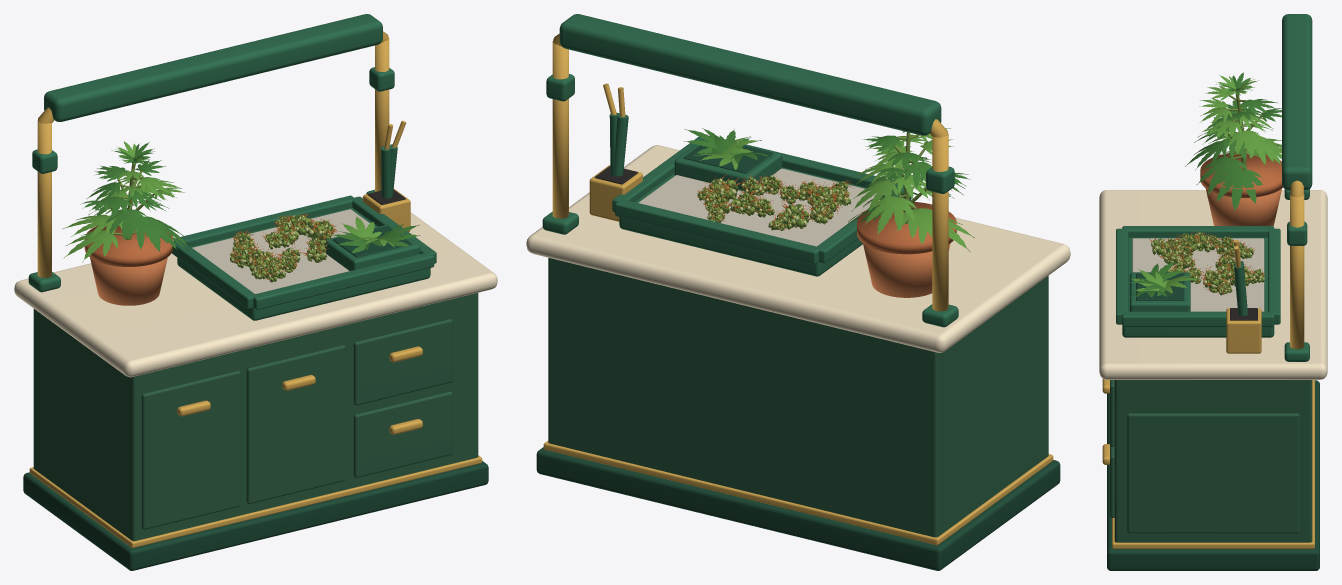
File: harvest_bench_tier1.glb
The picture shows the model from 3 angles, left to right: view 1: azimuth 30°, elevation 25°; view 2: azimuth 150°, elevation 25°; view 3: azimuth 270°, elevation 25°; orthographic projection. The views are drawn at different scales.
Parts seen in each view (by area): view 1: Body, Top, Drawer0, Drawer1, LightBar, Plinth, Drawer3, Drawer2, TrayFloor, BaseBrass, TrayRim0-0.3, Tray (+13 smaller); view 2: Body, Top, LightBar, Plinth, TrayFloor, BaseBrass, TrayRim00.3, Tray, PotPot, Post-1, Post1, PotRim (+8 smaller); view 3: EndPanel, Top, Body, Plinth, LightBar, TrayFloor, Tray, Post1, TrayRim0.40, BaseBrass, PotPot, PotRim (+19 smaller).
Boxes of the visible parts, x1,y1,x2,y2 form: Body: (33, 293, 478, 541); Top: (14, 197, 497, 377); Drawer0: (141, 370, 240, 529); Drawer1: (246, 345, 345, 503); LightBar: (44, 14, 382, 121); Plinth: (23, 461, 488, 570); Drawer3: (353, 319, 452, 405); Drawer2: (353, 391, 452, 477); TrayFloor: (192, 209, 374, 293); BaseBrass: (29, 455, 482, 547); TrayRim0-0.3: (253, 253, 434, 309); Tray: (177, 207, 430, 320); Body: (548, 258, 1048, 537); Top: (526, 145, 1070, 352); LightBar: (559, 14, 941, 135); Plinth: (536, 447, 1060, 570); TrayFloor: (638, 168, 884, 246); BaseBrass: (543, 441, 1053, 545); TrayRim00.3: (615, 200, 818, 264); Tray: (619, 167, 866, 276); PotPot: (863, 243, 950, 297); Post-1: (932, 133, 948, 311); Post1: (552, 41, 568, 218); PotRim: (857, 202, 956, 254); EndPanel: (1127, 413, 1299, 533); Top: (1099, 190, 1327, 379); Body: (1114, 380, 1312, 542); Plinth: (1107, 380, 1319, 570); LightBar: (1282, 14, 1312, 190); TrayFloor: (1132, 238, 1264, 311); Tray: (1122, 237, 1274, 337); Post1: (1290, 194, 1304, 349); TrayRim0.40: (1122, 311, 1274, 327); BaseBrass: (1112, 380, 1314, 548); PotPot: (1205, 188, 1281, 225); PotRim: (1200, 152, 1282, 197).
Size of the model in its own units: 1.67 by 1.72 by 0.9.
